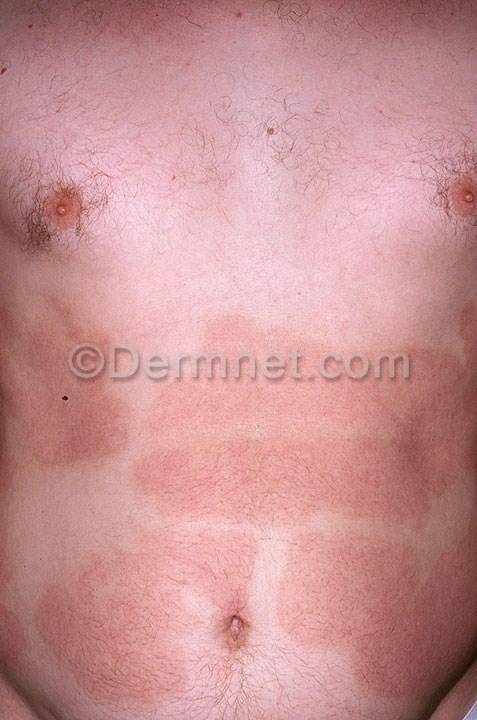Eczema: (32, 541, 182, 690), (0, 291, 130, 457), (345, 441, 468, 595), (235, 428, 343, 584), (277, 306, 393, 449), (127, 424, 243, 566), (351, 576, 477, 704), (165, 314, 285, 442), (385, 307, 477, 461), (9, 0, 219, 65), (276, 528, 376, 644), (166, 525, 270, 627), (341, 0, 477, 56), (0, 461, 39, 603), (0, 650, 51, 720)
